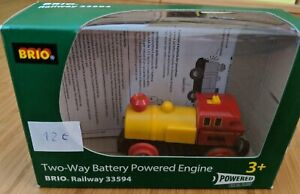brio: (109, 92, 251, 165)
